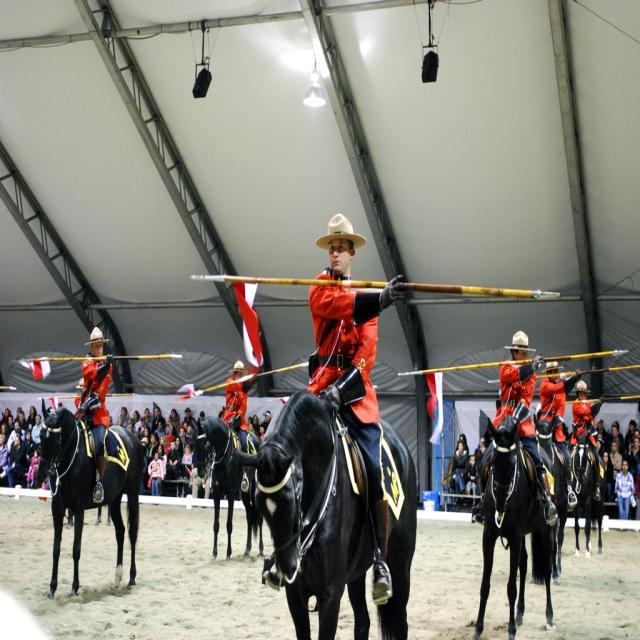Person: (0, 213, 640, 605)
